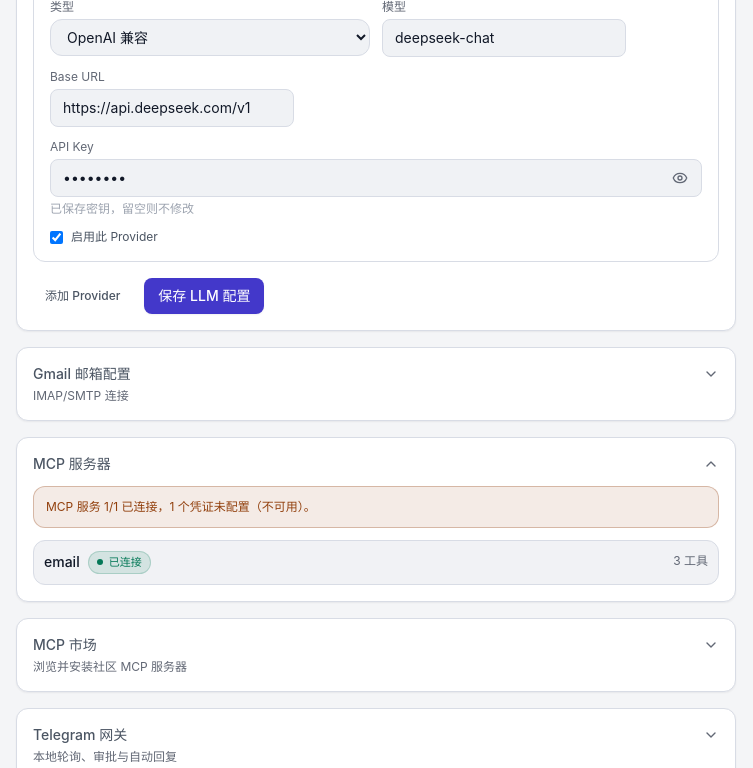
Scenario: SettingsPage › shows editable LLM and Gmail config sections
The width and height of the screenshot is (753, 768).
(page scrolled)
expect the heading "Gmail 邮箱配置" is shown: met, box 33,364 -> 131,384
expect the button "保存 LLM 配置" is shown: met, box 144,278 -> 264,314
Click the button "Gmail 邮箱配置 IMAP/SMTP 连接": [82, 374] box 33,364 -> 719,404
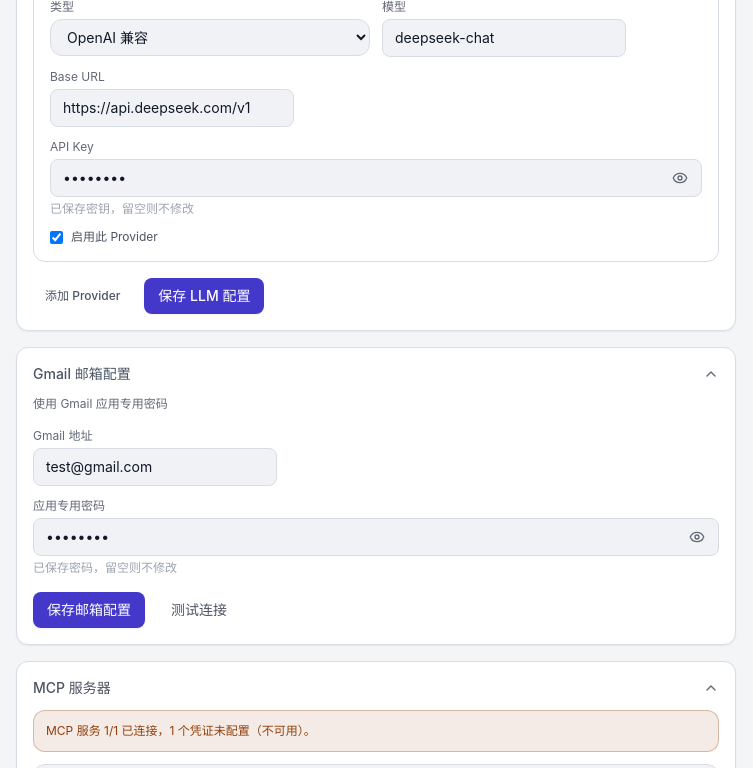
expect the button "保存邮箱配置" is shown: met, box 33,592 -> 145,628
expect the button "测试连接" is shown: met, box 157,592 -> 241,628
